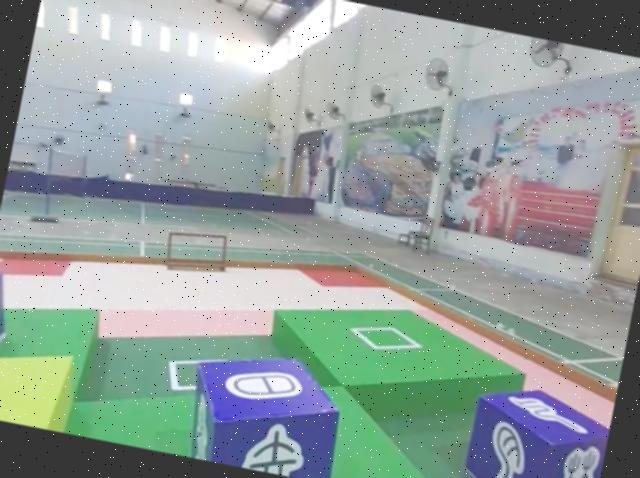R2 Fake Blue: (176, 341, 350, 478), (456, 379, 614, 478), (0, 266, 18, 383)
